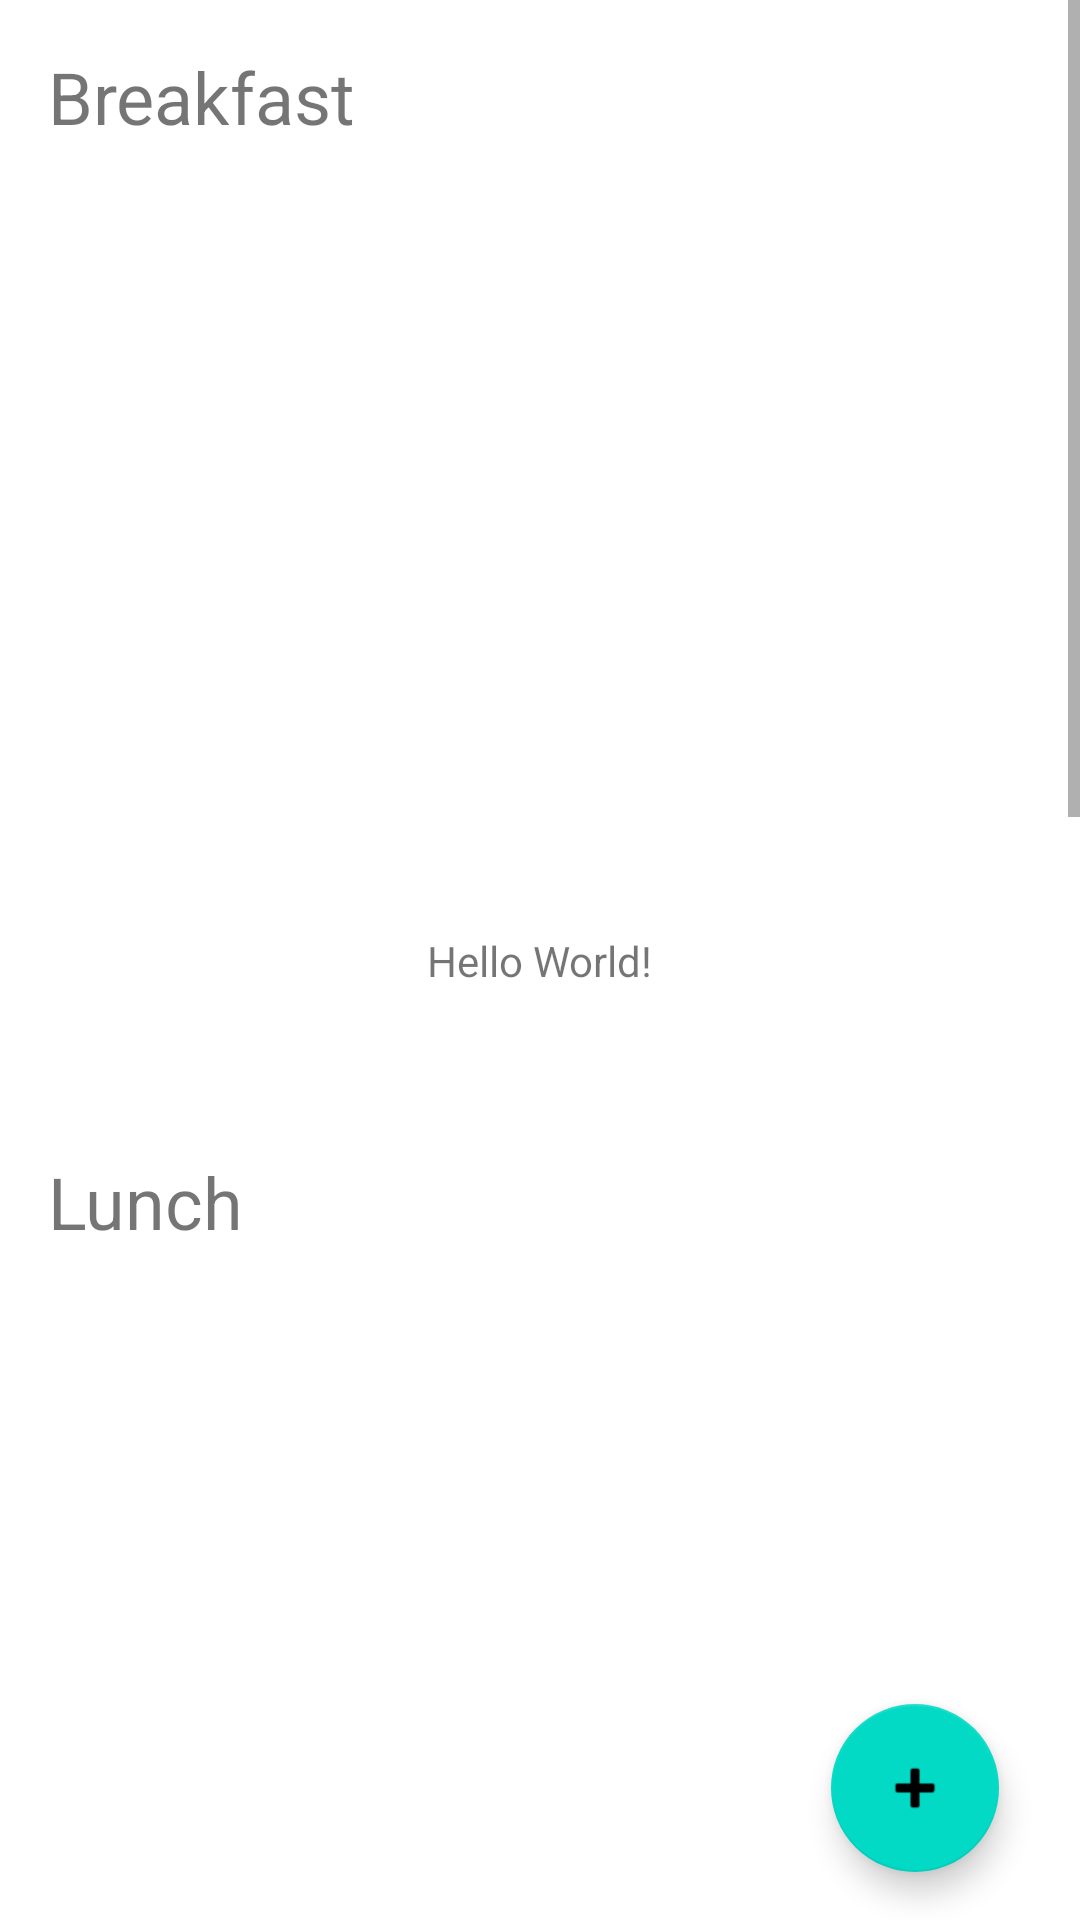

Icons on this 1080x1920 Android screen, each with its box as (x1, y1, x2, y2):
add: (831, 1704, 999, 1872)
